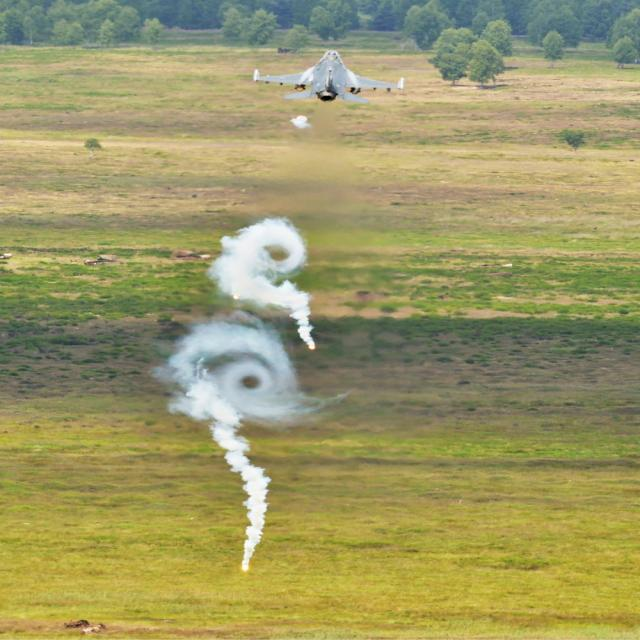MIL_Plane: (251, 50, 403, 104)
